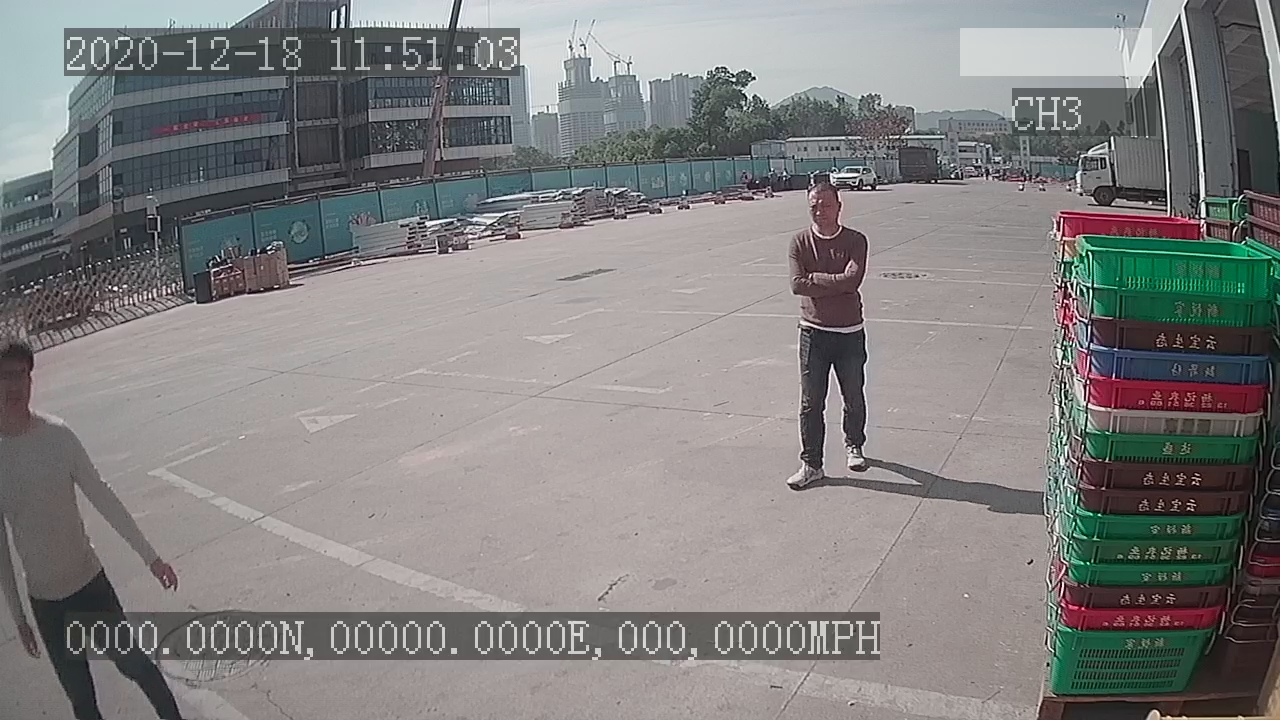person: (774, 176, 877, 499)
